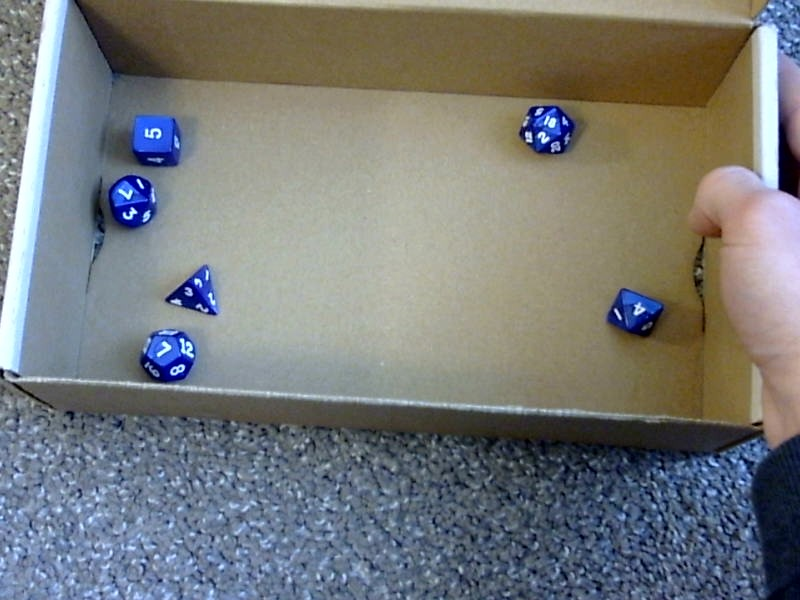d10 7: (106, 170, 157, 229)
d12 7: (135, 325, 197, 384)
d20 18: (518, 101, 575, 158)
d4 3: (162, 260, 219, 316)
d6 5: (127, 110, 183, 168)
d8 4: (600, 280, 663, 340)
